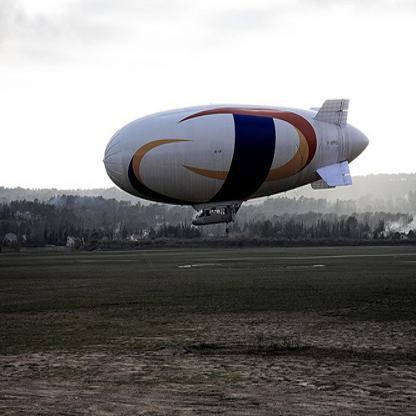Airship: (104, 96, 370, 228)
